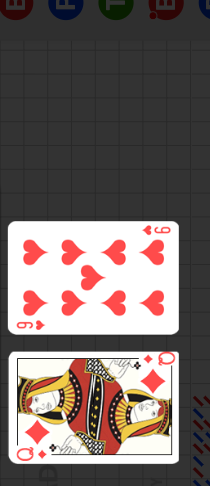9H: (15, 318, 47, 331), (140, 224, 172, 237)
QD: (132, 364, 179, 408), (12, 431, 58, 475)
